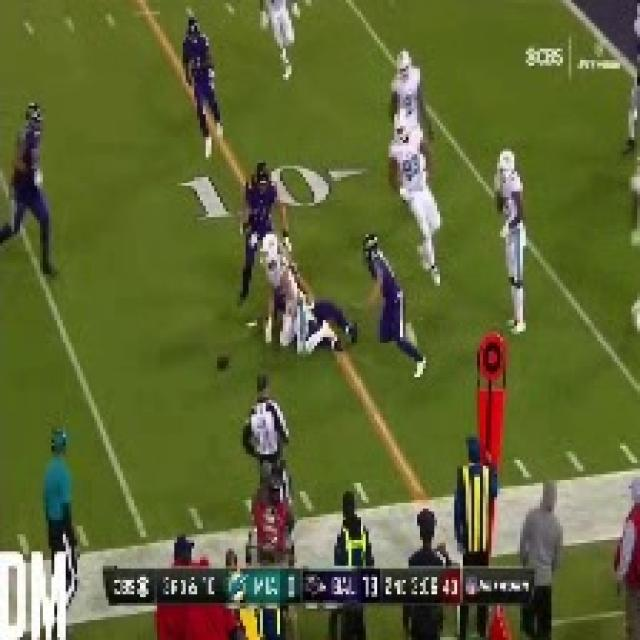Violence: (251, 228, 356, 357)
